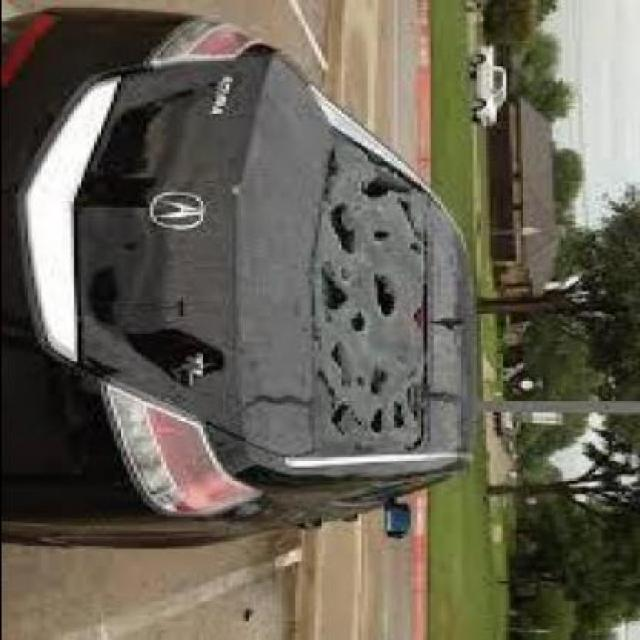damage: (305, 134, 436, 461)
